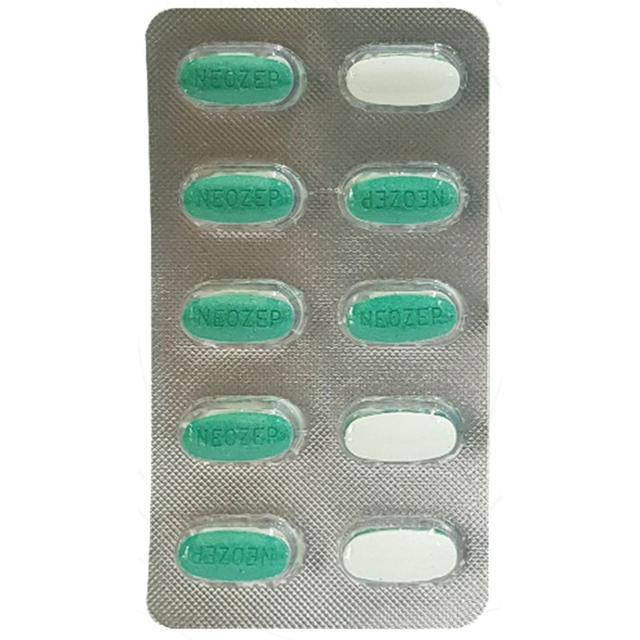blister: (132, 0, 504, 631)
